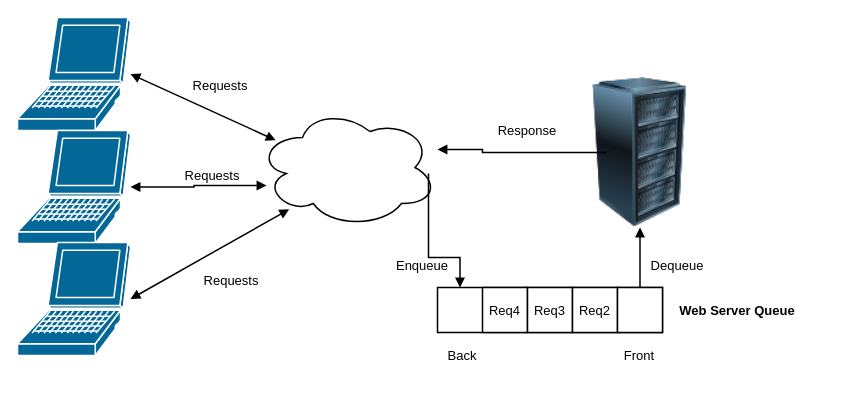
Some shapes in this 846 by 396 pixel diagram are drawn without their labels. The box of each missing label's shape, as (x1, y1, x2, y2) in pixels:
Internet Cloud: (256, 106, 438, 228)
Req1: (616, 286, 663, 333)
